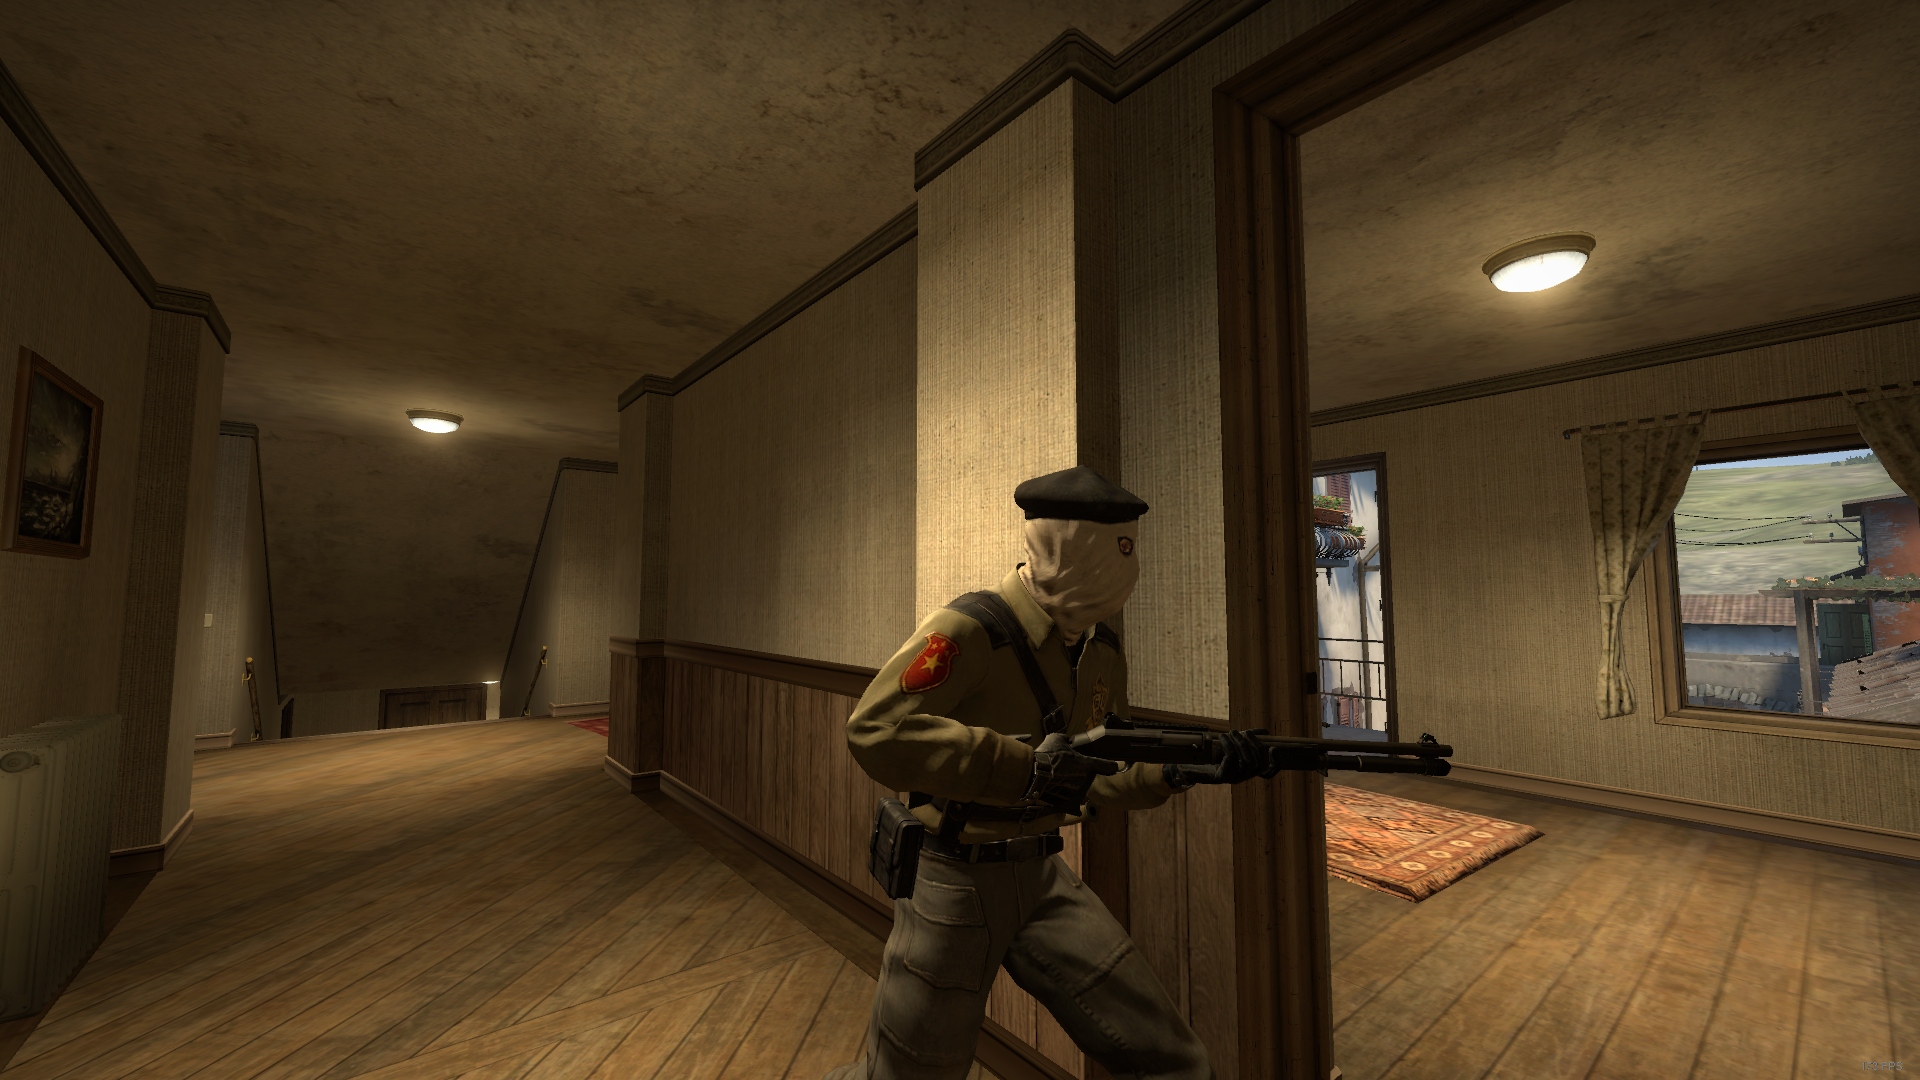t: (851, 464, 1276, 1080)
